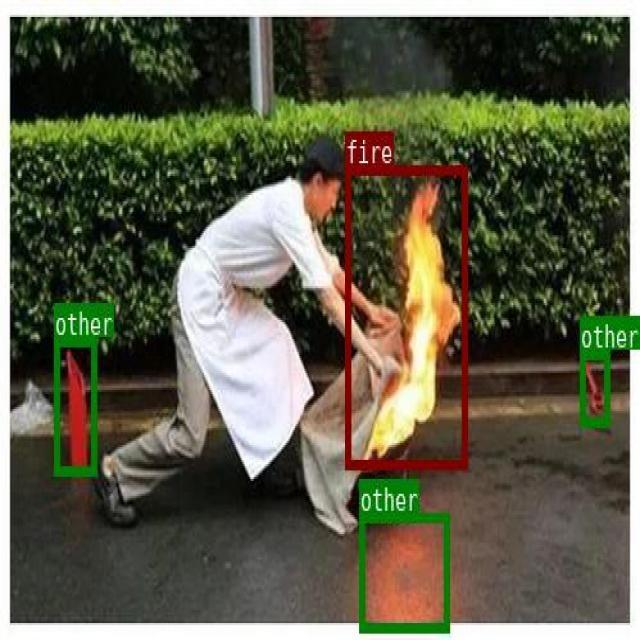fire: (344, 164, 466, 468)
